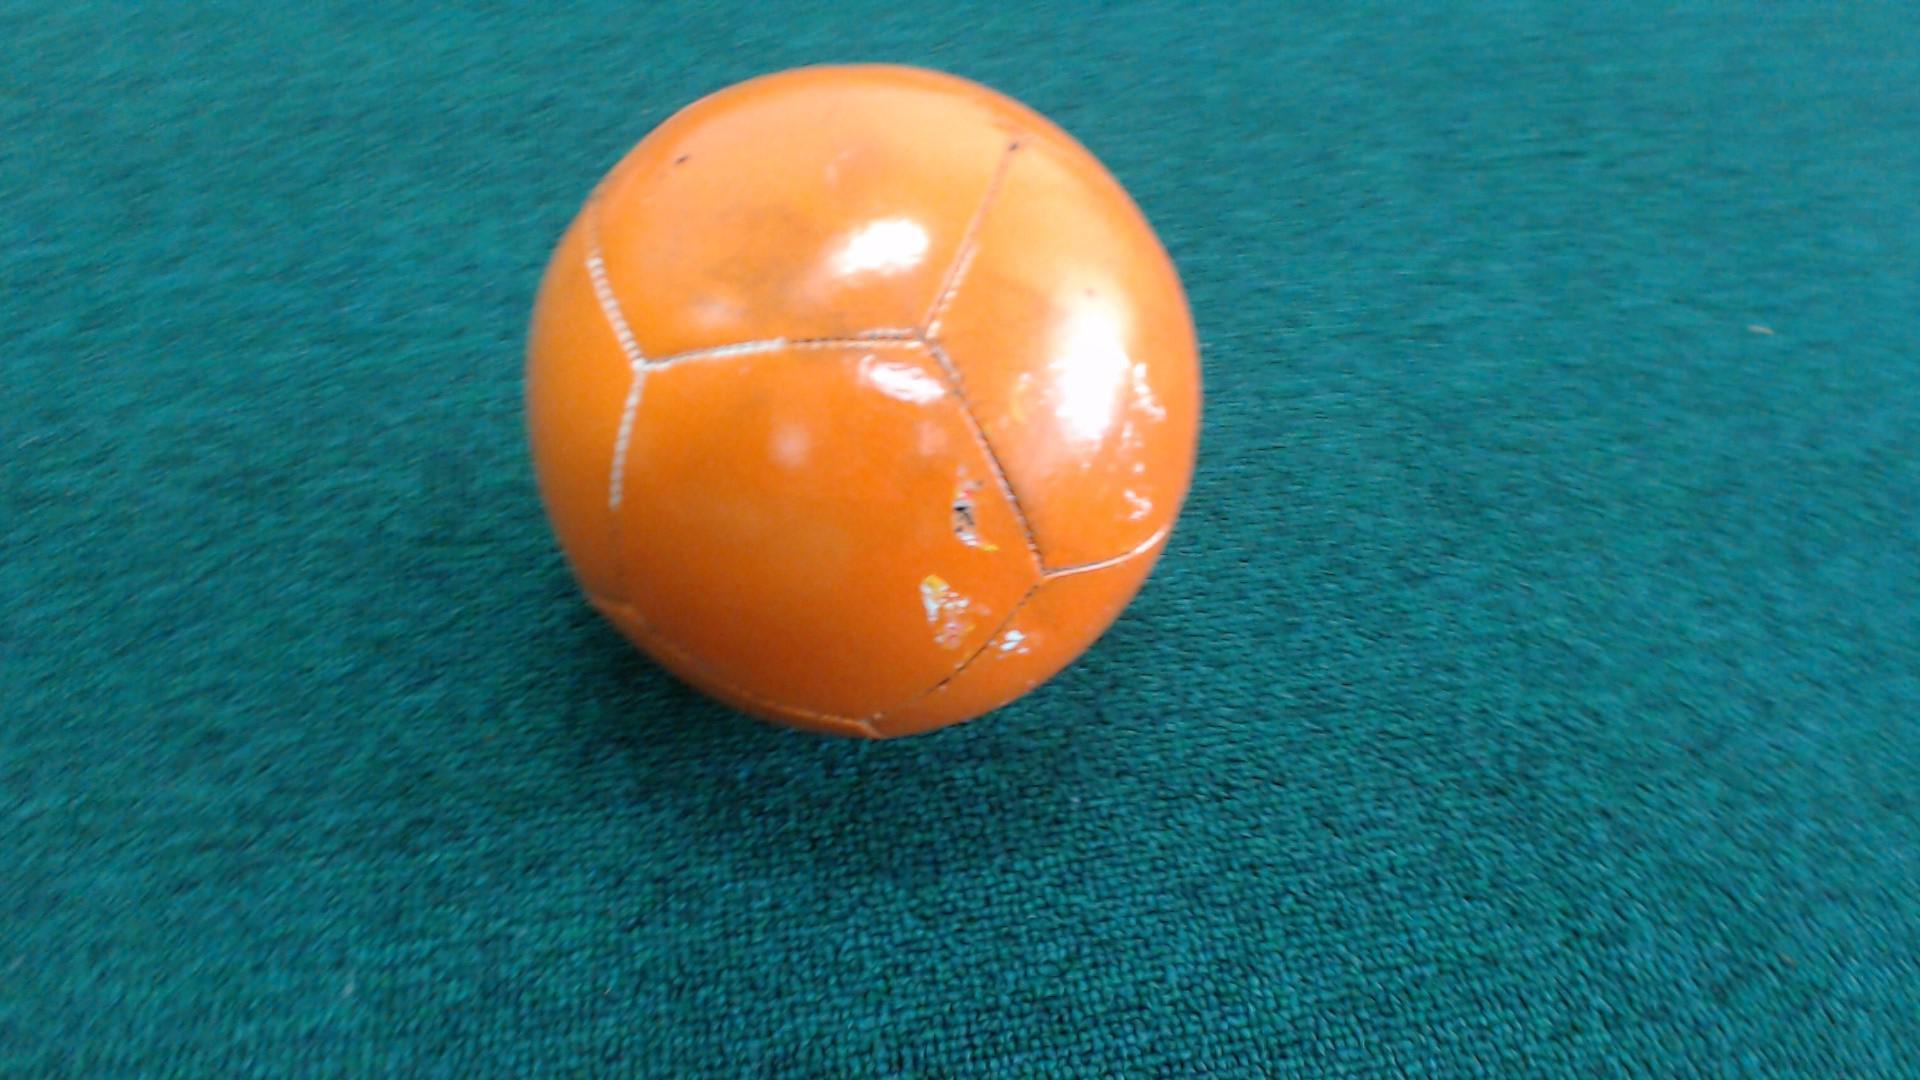bola: (488, 42, 1241, 775)
